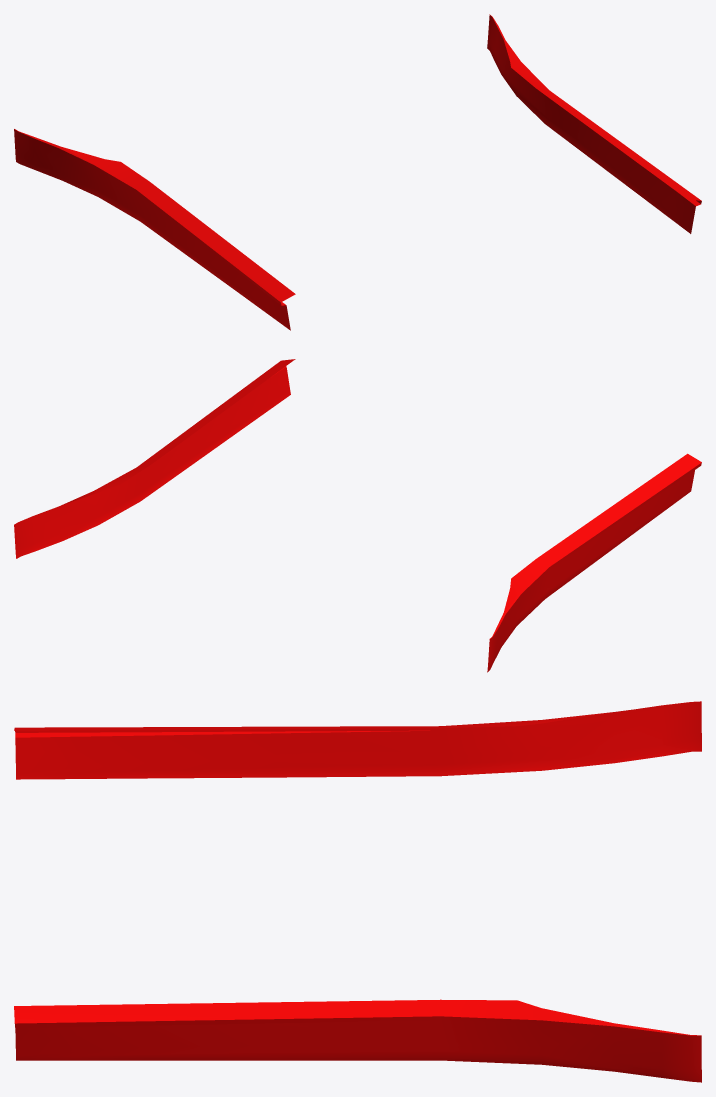
Rendered from evox_near_boot.FBX.
3 renders of one model, top to bottom at view 1: azimuth 30°, elevation 25°; view 2: azimuth 150°, elevation 25°; view 3: azimuth 270°, elevation 25°, orthographic. The views are drawn at different scales.
Parts seen in each view (by area): view 1: DrawCall33, DrawCall32; view 2: DrawCall32, DrawCall33; view 3: DrawCall32, DrawCall33.
Boxes of the visible parts, <box> form: DrawCall33: <box>14,129,295,330</box>; DrawCall32: <box>487,14,701,233</box>; DrawCall32: <box>14,359,295,558</box>; DrawCall33: <box>487,453,701,672</box>; DrawCall32: <box>14,999,701,1082</box>; DrawCall33: <box>14,701,701,779</box>.
Size of the model in its own units: 4096 by 336 by 3581.
